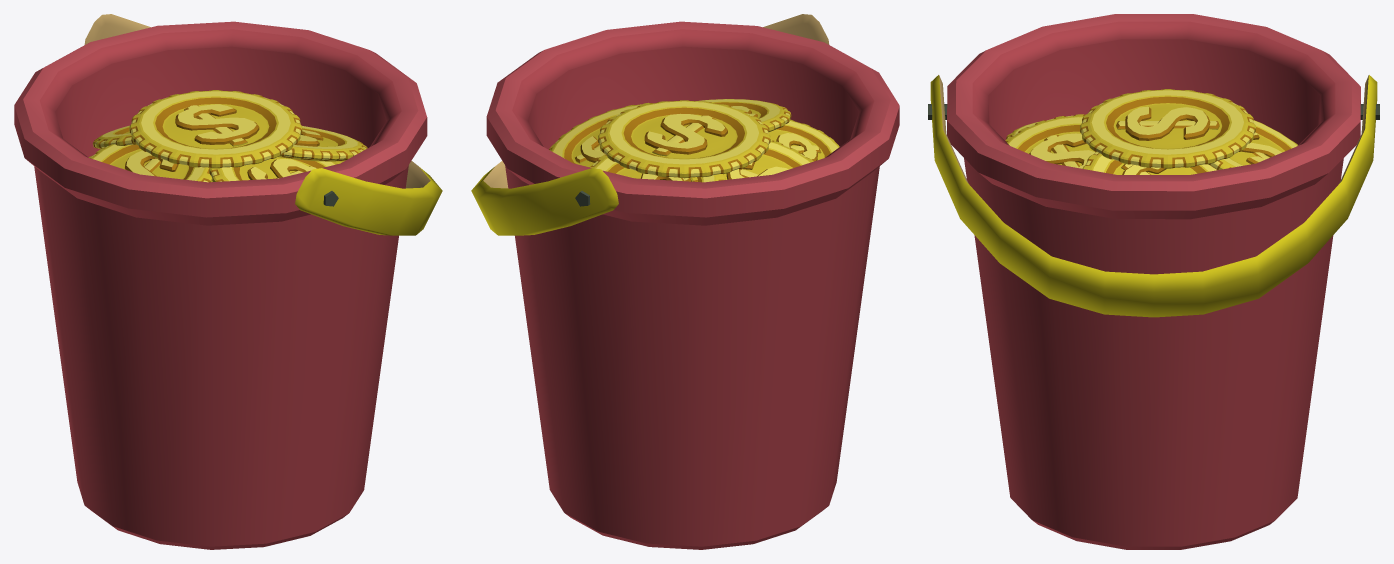
The model's file is BeachTreasures2FBX.fbx.
The picture shows the model from 3 angles, left to right: view 1: azimuth 30°, elevation 25°; view 2: azimuth 150°, elevation 25°; view 3: azimuth 270°, elevation 25°; orthographic projection.
Visible parts, largest first — view 1: treasureBucket; view 2: treasureBucket; view 3: treasureBucket.
Part boxes in pixels (bbox=[...]): treasureBucket: bbox=[14, 14, 442, 549]; treasureBucket: bbox=[471, 14, 899, 549]; treasureBucket: bbox=[928, 14, 1379, 549].
Size of the model in its own units: 23.48 by 24.9 by 24.8.
